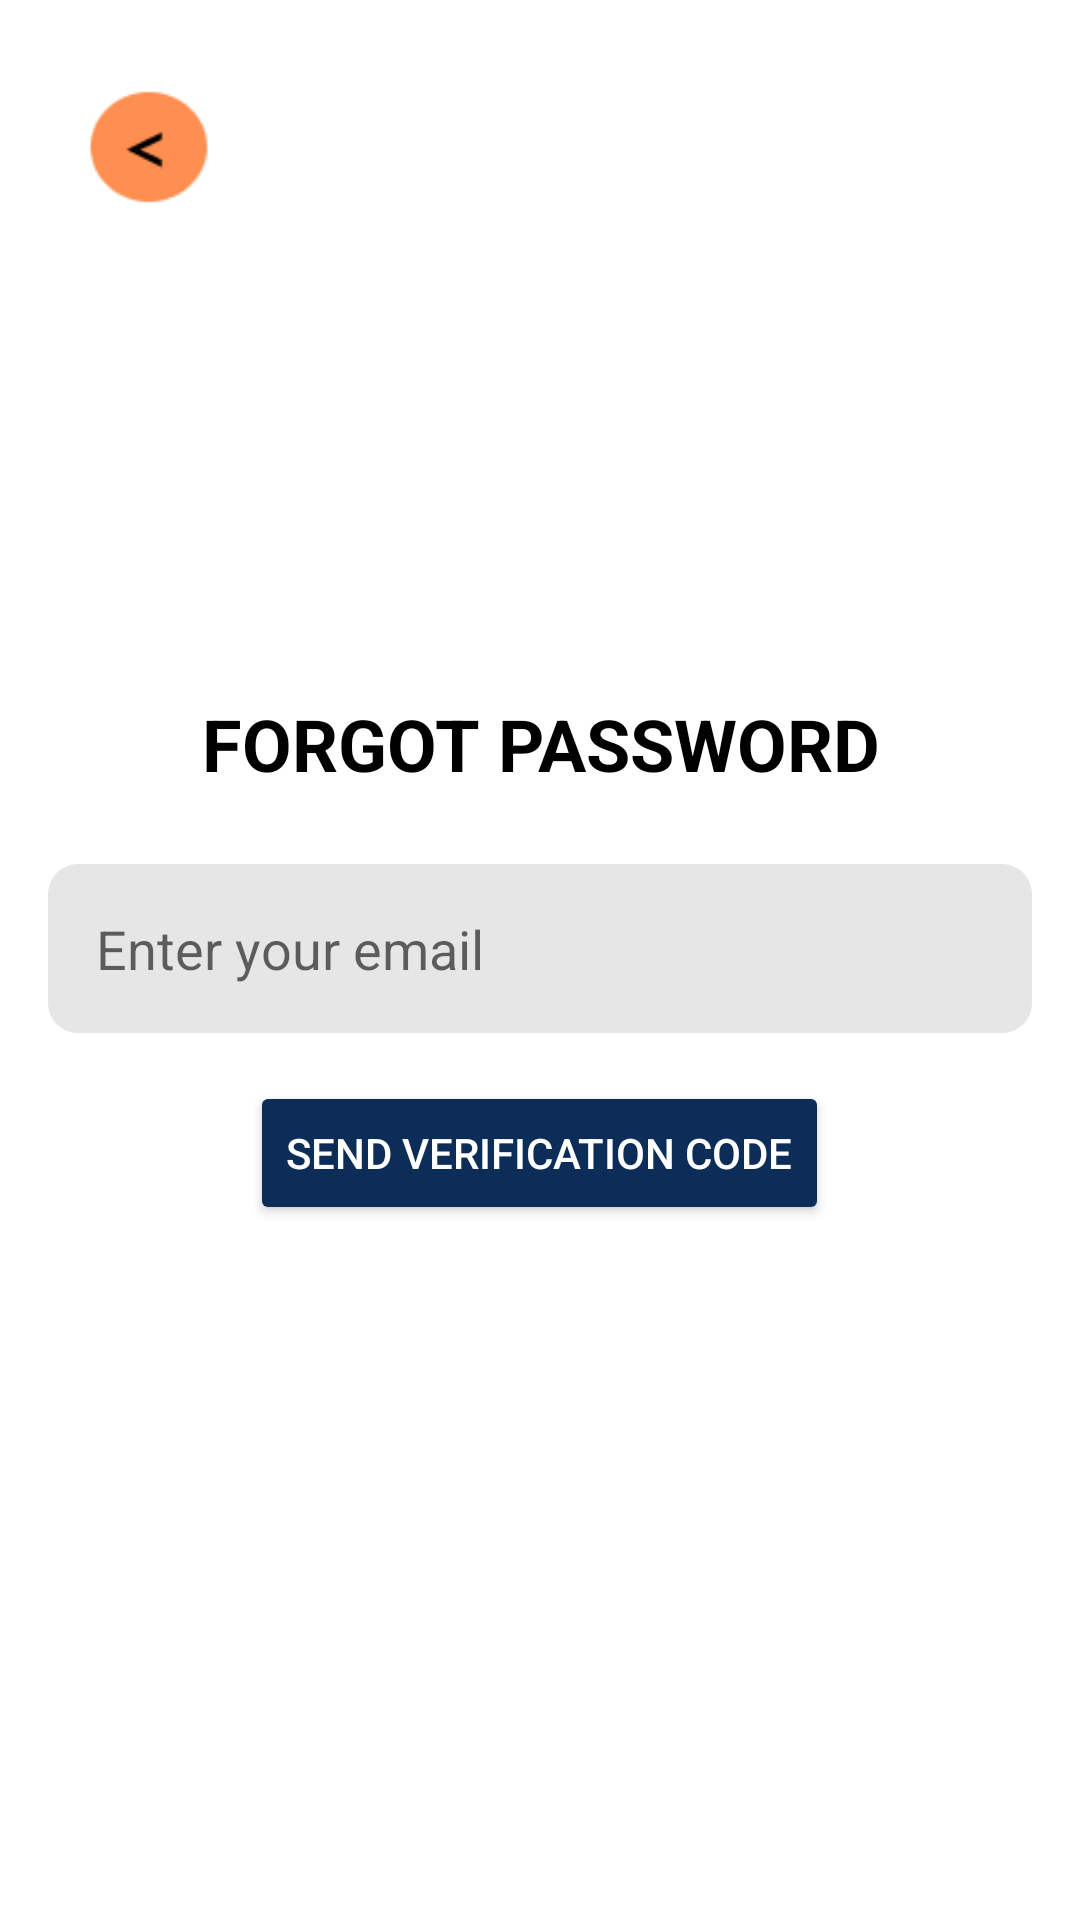

Screen size 1080 x 1920. Icon name, then its box in pixels as (x1, y1, x2, y2):
Back: (90, 91, 208, 203)
